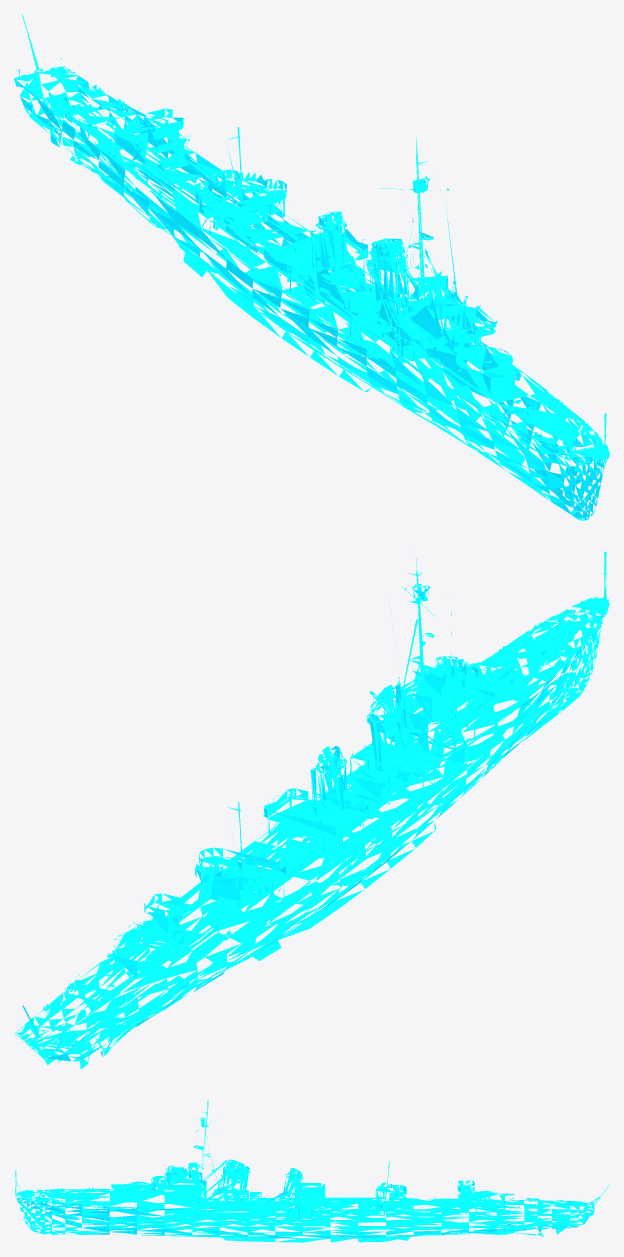
The model's file is Karl_von_Schonberg.glb.
3 renders of one model, top to bottom at view 1: azimuth 30°, elevation 25°; view 2: azimuth 150°, elevation 25°; view 3: azimuth 270°, elevation 25°, orthographic. The views are drawn at different scales.
Size of the model in its own units: 0.8191 by 2.22 by 8.8.
